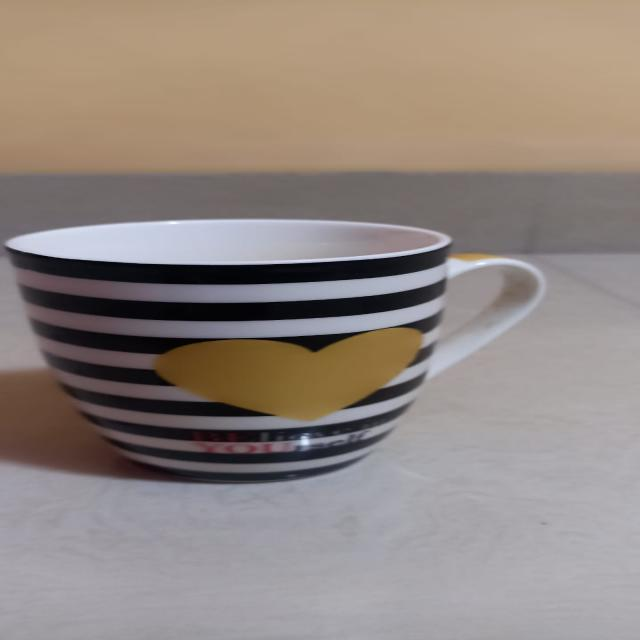cup: (0, 204, 576, 494)
